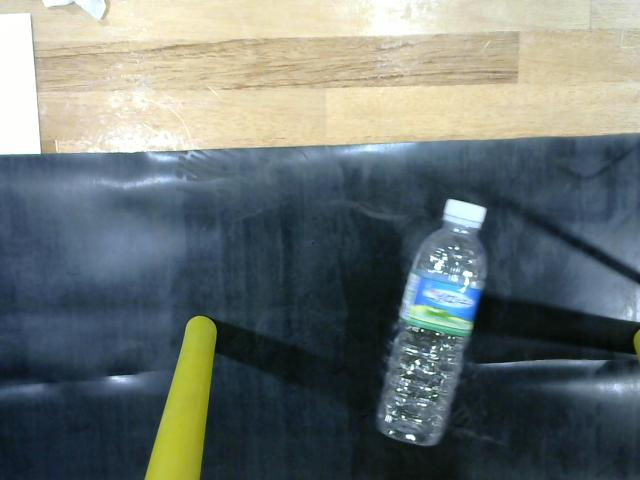bottle: (371, 193, 490, 449)
